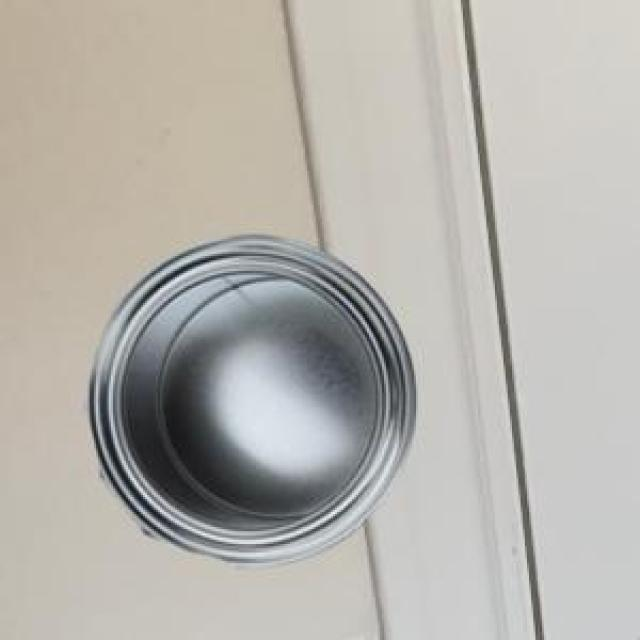logam: (82, 234, 411, 562)
